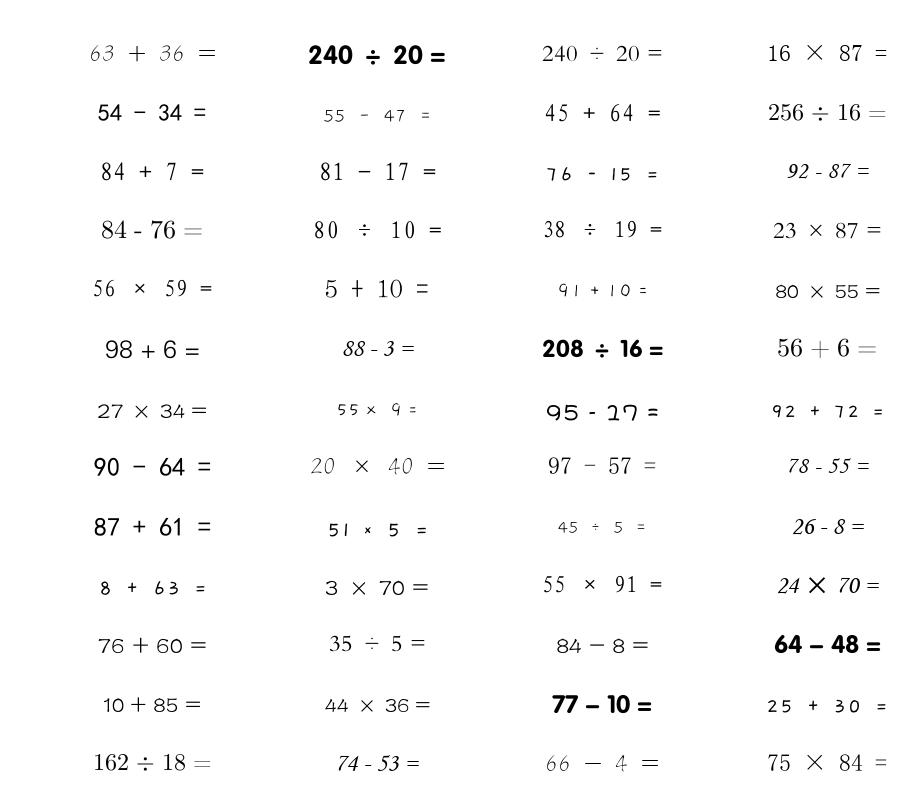MQ: (308, 45, 446, 65), (310, 457, 445, 475), (94, 457, 211, 477), (313, 221, 442, 239), (542, 339, 663, 358), (319, 162, 436, 181), (94, 517, 211, 536), (542, 220, 662, 238), (92, 279, 212, 297), (542, 575, 662, 593), (89, 45, 216, 62), (768, 103, 887, 121), (93, 753, 212, 771), (774, 634, 881, 654), (544, 104, 661, 122), (777, 338, 877, 359), (542, 45, 663, 62), (545, 754, 659, 772), (767, 44, 887, 61), (767, 754, 887, 771), (552, 694, 652, 714), (100, 162, 204, 181), (325, 279, 429, 298), (101, 220, 203, 239), (546, 404, 659, 421), (773, 222, 882, 239), (98, 637, 207, 654), (98, 104, 206, 121), (548, 457, 656, 474), (105, 340, 200, 359), (776, 577, 879, 594), (766, 699, 888, 713), (103, 696, 201, 713), (97, 404, 207, 419), (329, 635, 426, 652), (545, 167, 659, 181), (325, 698, 430, 713), (325, 580, 429, 595), (323, 109, 432, 123), (98, 581, 207, 595), (770, 405, 885, 418), (556, 638, 649, 654), (775, 284, 880, 298), (326, 523, 429, 537), (557, 283, 648, 298), (335, 755, 419, 771), (786, 163, 869, 179), (786, 458, 869, 473), (791, 519, 864, 535), (558, 521, 647, 534), (336, 403, 418, 417), (341, 341, 414, 356)
